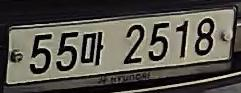1: (173, 19, 193, 60)
2: (120, 22, 146, 67)
5: (26, 31, 55, 76), (146, 19, 172, 63), (55, 29, 80, 74)
8: (193, 15, 216, 59)
마: (80, 29, 105, 69)
